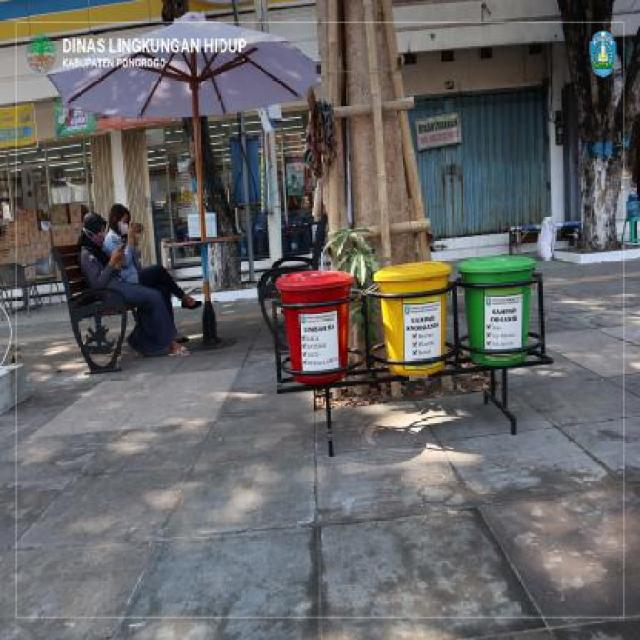garbage container: (274, 268, 360, 398), (368, 259, 452, 390), (455, 245, 540, 372)
